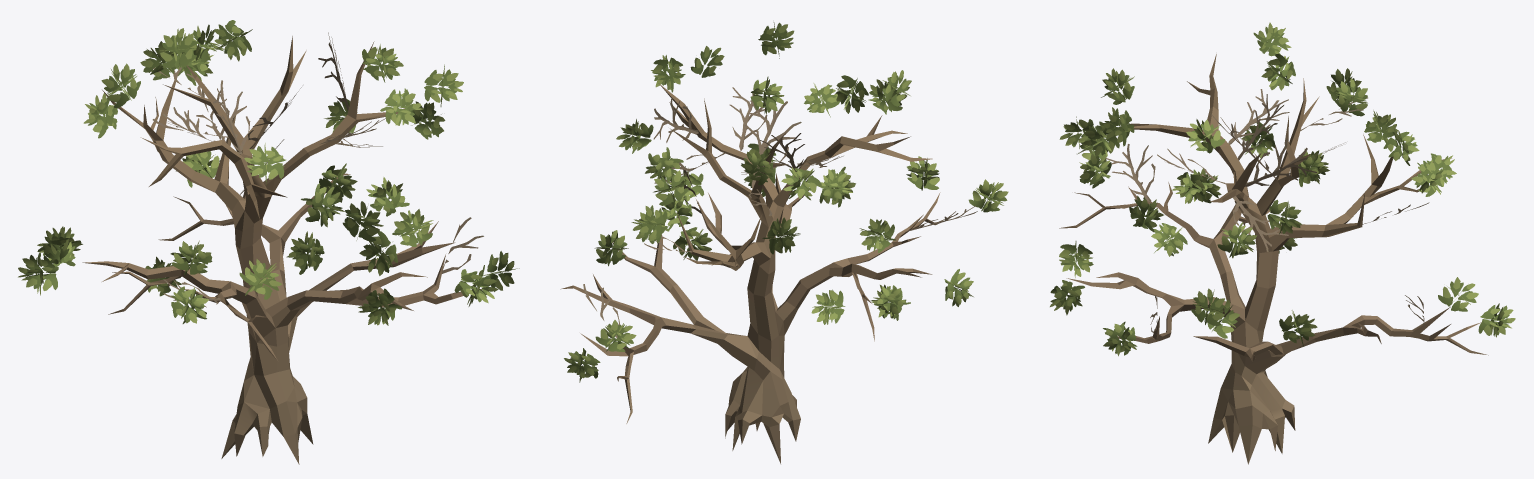
The model's file is tree_far_lod2.glb.
3 renders of one model, left to right at view 1: azimuth 30°, elevation 25°; view 2: azimuth 150°, elevation 25°; view 3: azimuth 270°, elevation 25°, orthographic. The views are drawn at different scales.
Visible parts, largest first — view 1: SM_Env_Tree_Meadow_01_LOD2, SM_Env_Tree_Meadow_01_Branches_LOD2; view 2: SM_Env_Tree_Meadow_01_LOD2, SM_Env_Tree_Meadow_01_Branches_LOD2; view 3: SM_Env_Tree_Meadow_01_LOD2, SM_Env_Tree_Meadow_01_Branches_LOD2.
Boxes of the visible parts, x1=… form: SM_Env_Tree_Meadow_01_LOD2: x1=18, y1=20, x2=519, y2=464; SM_Env_Tree_Meadow_01_Branches_LOD2: x1=145, y1=32, x2=483, y2=307; SM_Env_Tree_Meadow_01_LOD2: x1=560, y1=22, x2=1008, y2=463; SM_Env_Tree_Meadow_01_Branches_LOD2: x1=583, y1=87, x2=977, y2=337; SM_Env_Tree_Meadow_01_LOD2: x1=1050, y1=22, x2=1515, y2=464; SM_Env_Tree_Meadow_01_Branches_LOD2: x1=1106, y1=89, x2=1429, y2=334.
Size of the model in its own units: 9.79 by 9.73 by 10.51.
Materials: 3 (3 with a texture image).
